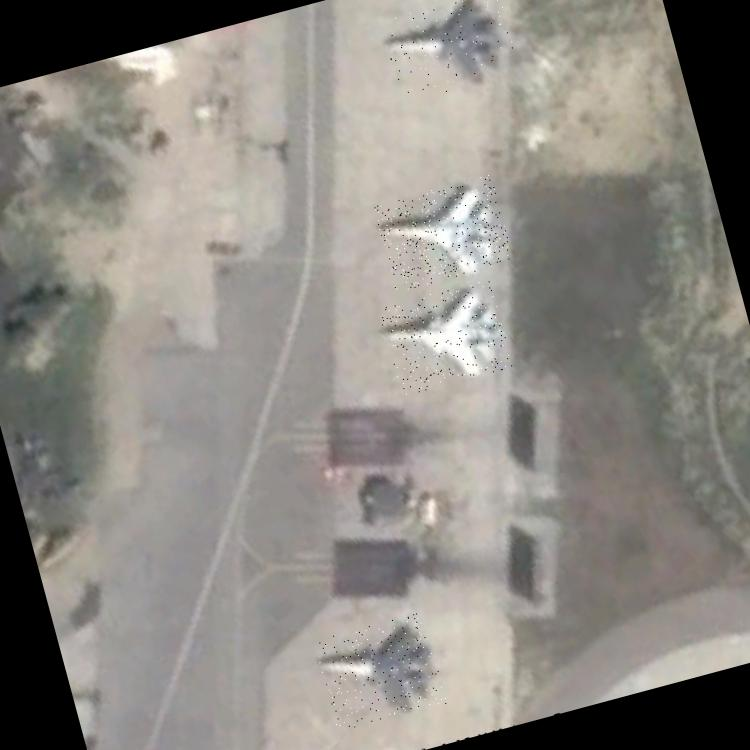A1: (373, 174, 514, 293)
A19: (378, 278, 514, 397), (314, 612, 448, 732), (377, 0, 520, 104)
